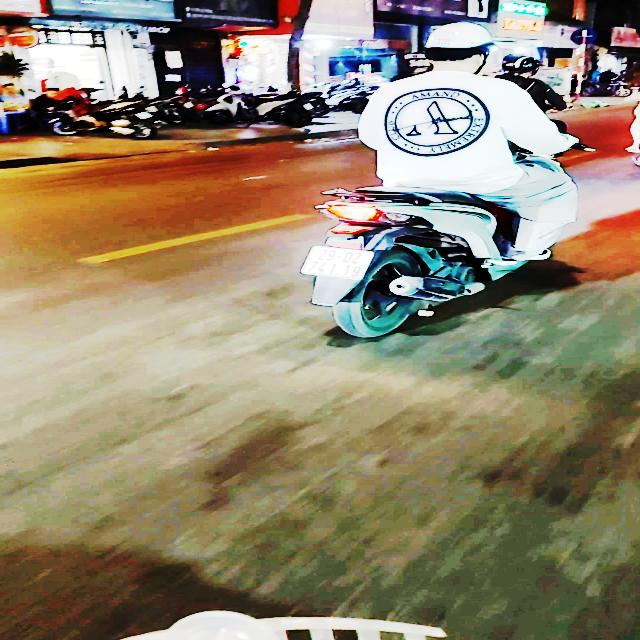license_plate: (300, 247, 376, 281)
